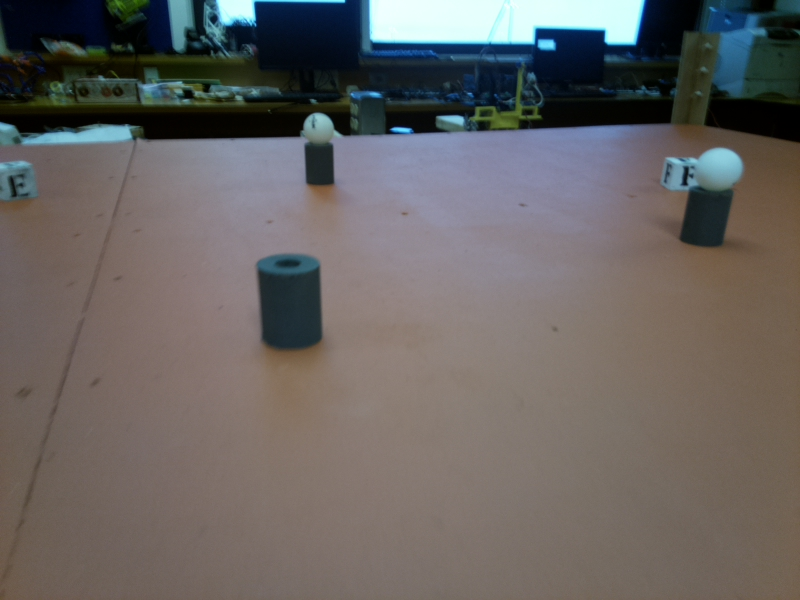blockE: (1, 157, 43, 202)
blockF: (659, 155, 696, 194)
corner: (673, 34, 723, 117)
obstacle: (259, 242, 323, 344), (697, 150, 737, 241), (298, 113, 339, 187)
